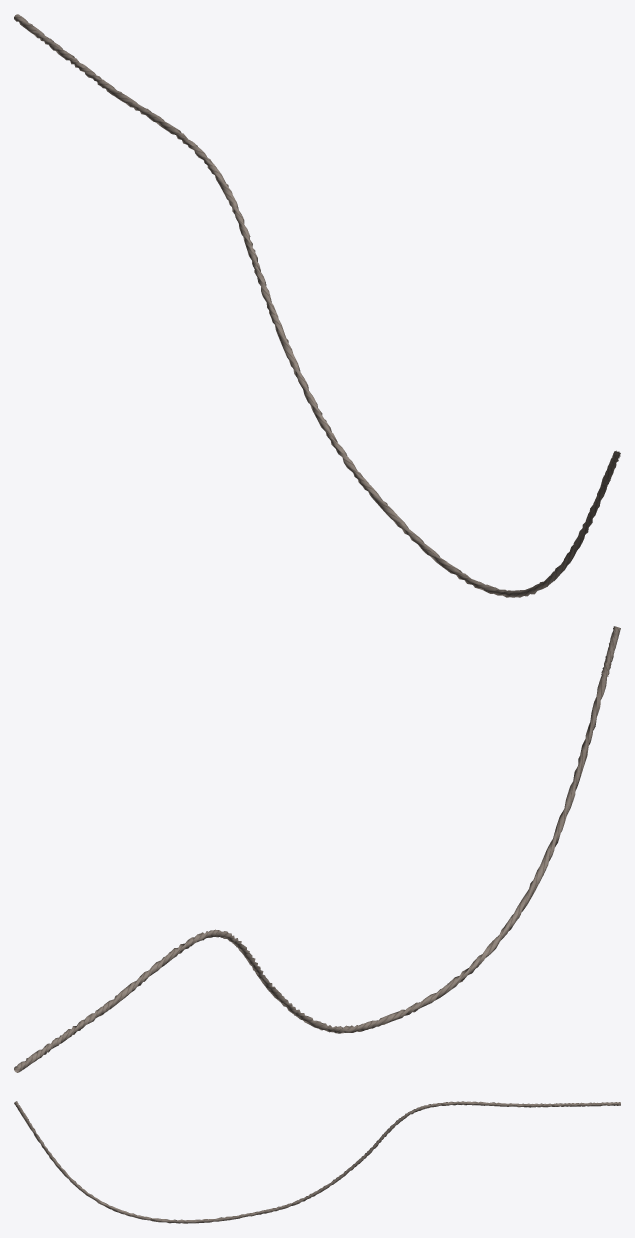
File: SM_RopeSplineMesh_Splines_11.fbx
3 renders of one model, top to bottom at view 1: azimuth 30°, elevation 25°; view 2: azimuth 150°, elevation 25°; view 3: azimuth 270°, elevation 25°, orthographic. The views are drawn at different scales.
Parts seen in each view (by area): view 1: SM_RopeSplineMesh_Splines_11; view 2: SM_RopeSplineMesh_Splines_11; view 3: SM_RopeSplineMesh_Splines_11.
Part boxes in pixels (bbox=[...]): SM_RopeSplineMesh_Splines_11: bbox=[14, 14, 620, 597]; SM_RopeSplineMesh_Splines_11: bbox=[14, 626, 620, 1072]; SM_RopeSplineMesh_Splines_11: bbox=[14, 1101, 620, 1223].
Size of the model in its own units: 2.63 by 380 by 84.27.
